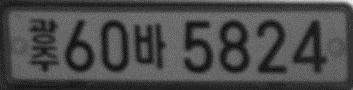0: (99, 20, 129, 72)
2: (256, 18, 287, 75)
4: (293, 19, 327, 73)
5: (182, 19, 212, 73)
6: (64, 20, 95, 72)
8: (218, 19, 250, 73)
광주_V: (28, 17, 60, 72)
바: (133, 23, 167, 69)
